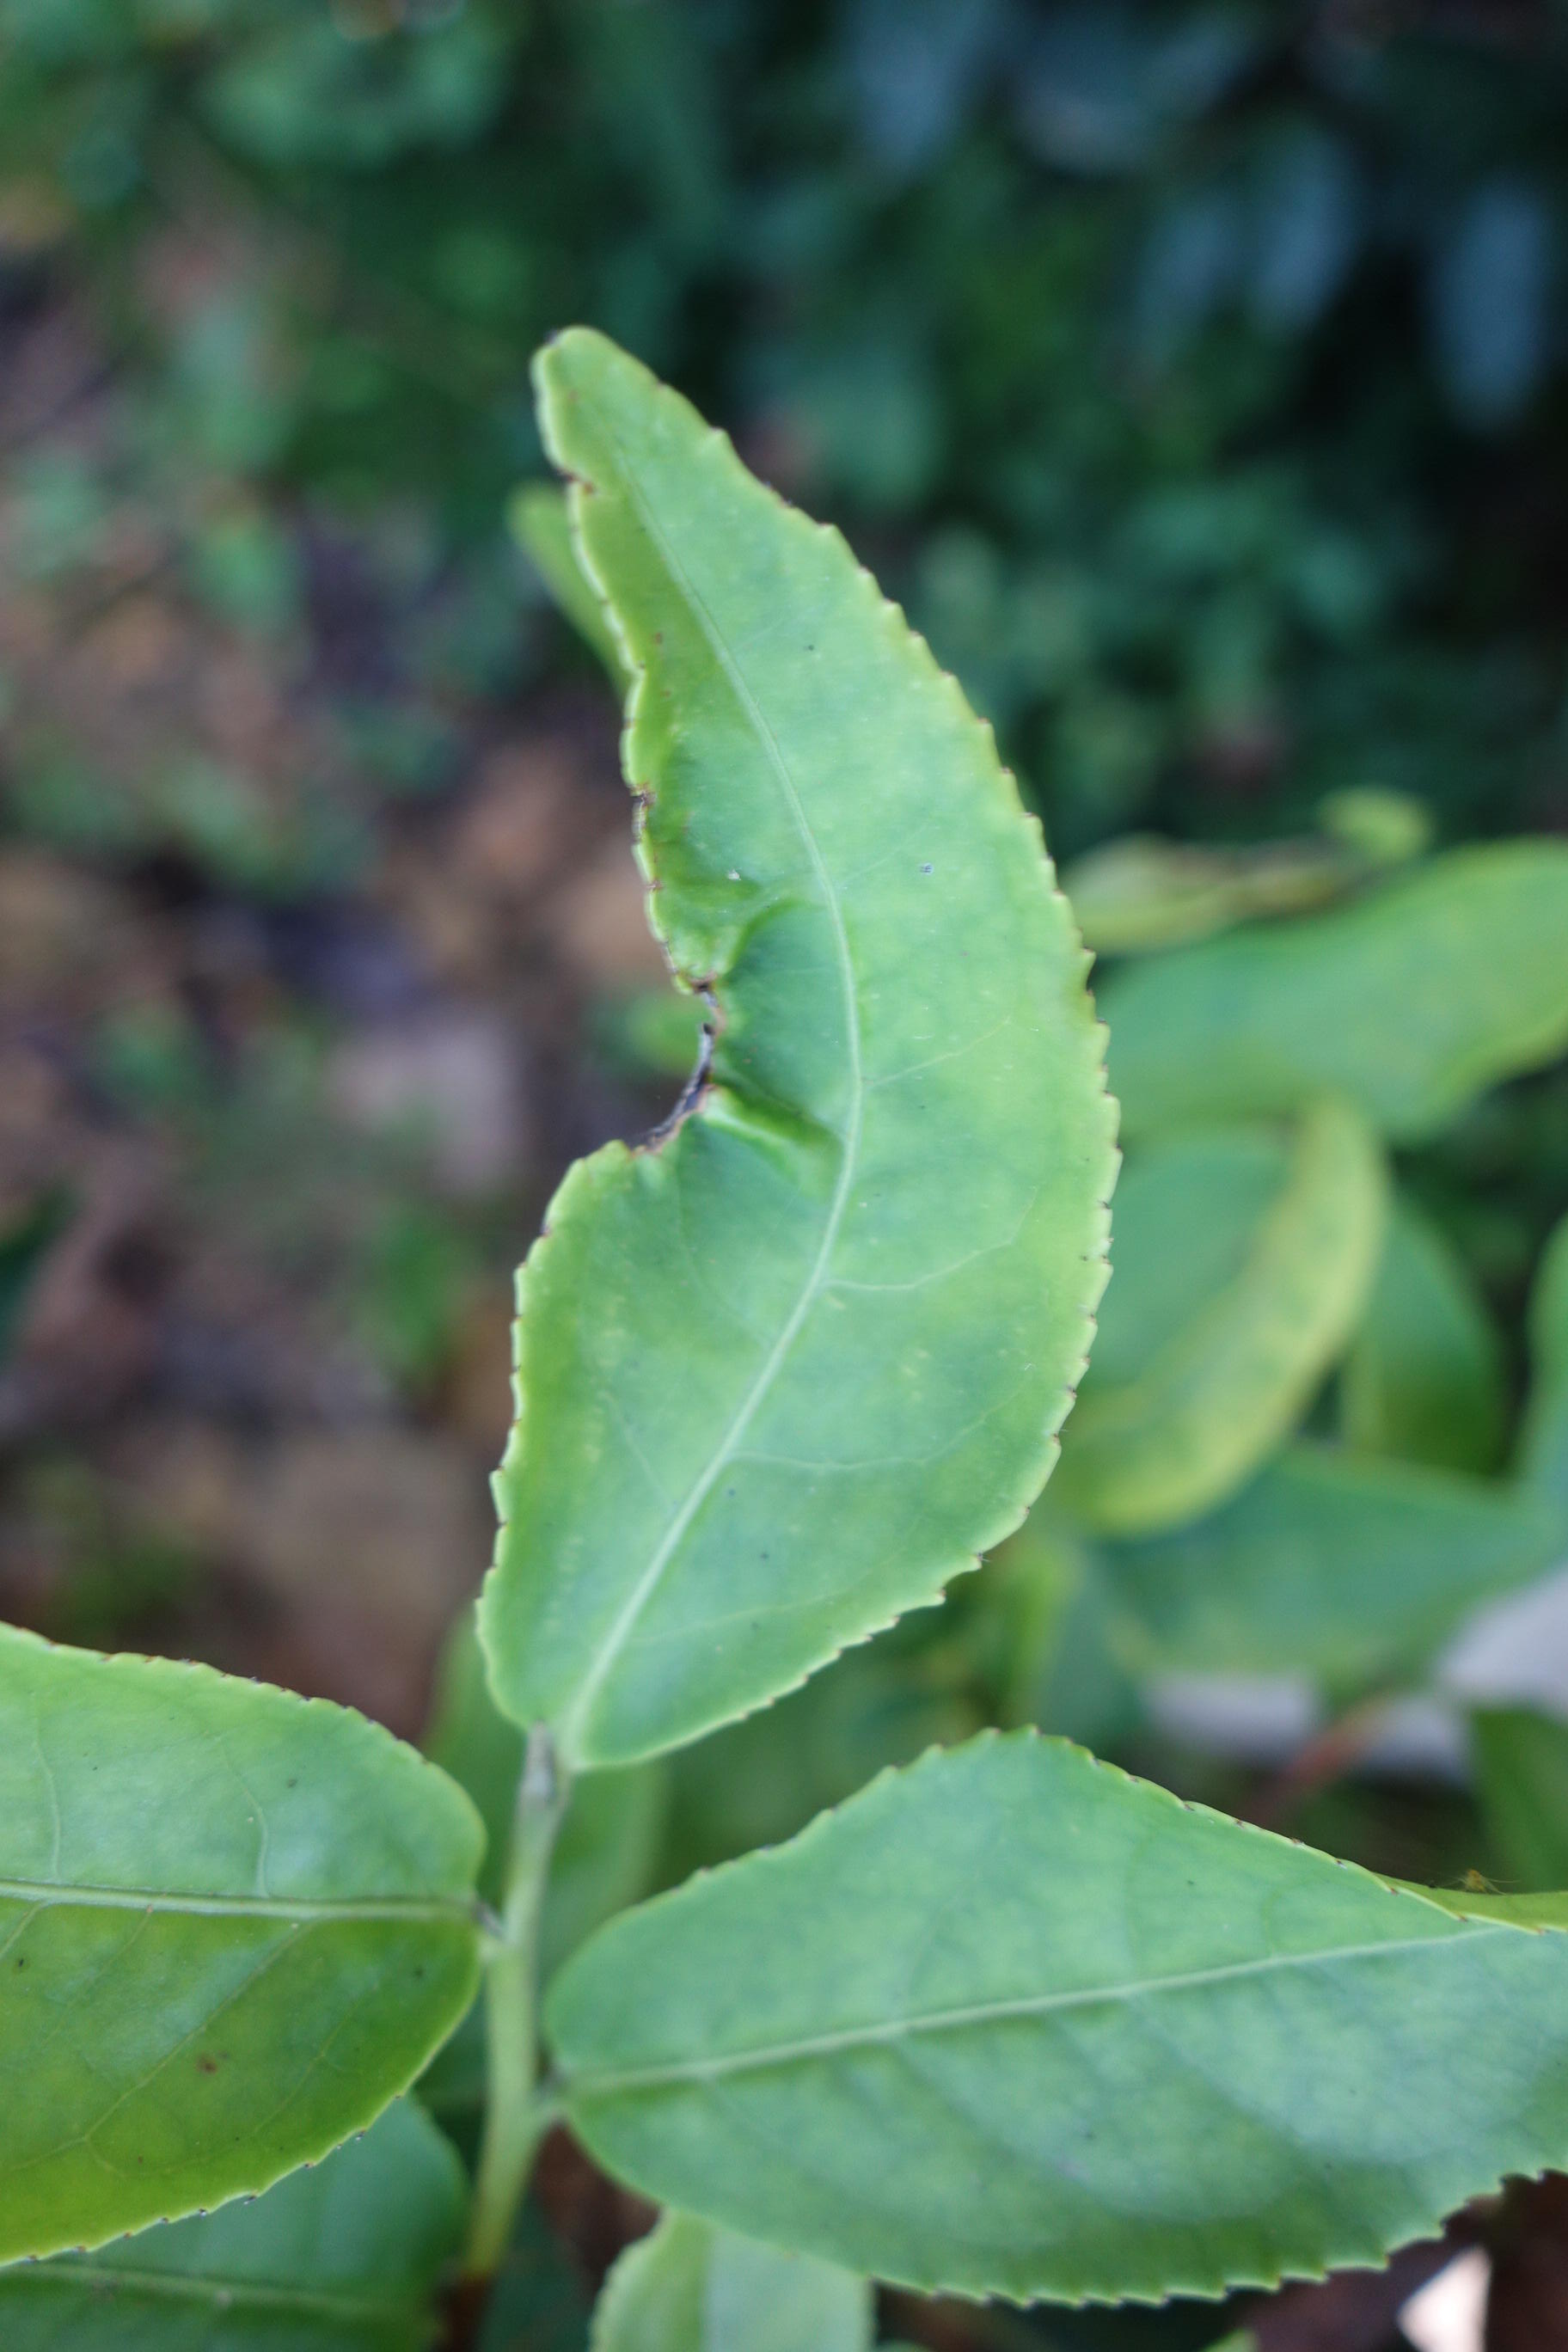chihuo_high: (451, 320, 1127, 1769)
